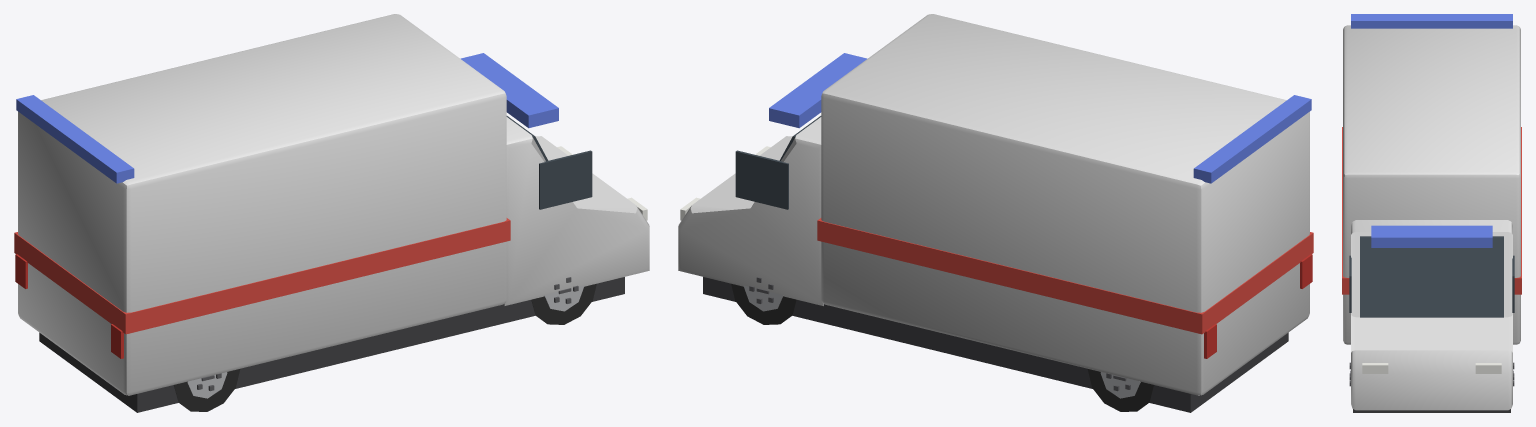
Rendered from ambulance.glb.
The picture shows the model from 3 angles, left to right: view 1: azimuth 30°, elevation 25°; view 2: azimuth 150°, elevation 25°; view 3: azimuth 270°, elevation 25°; orthographic projection. The views are drawn at different scales.
Parts seen in each view (by area): view 1: ambulance; view 2: ambulance; view 3: ambulance.
Boxes of the visible parts, x1,y1,x2,y2 form: ambulance: [14, 14, 649, 412]; ambulance: [678, 14, 1313, 412]; ambulance: [1342, 14, 1521, 412].
Bounding box in the file's own units: 6.18 × 2.88 × 2.22.
